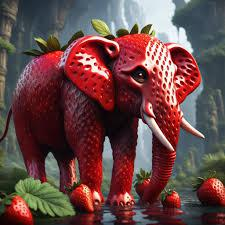strawberry-elephant: (12, 33, 202, 211)
